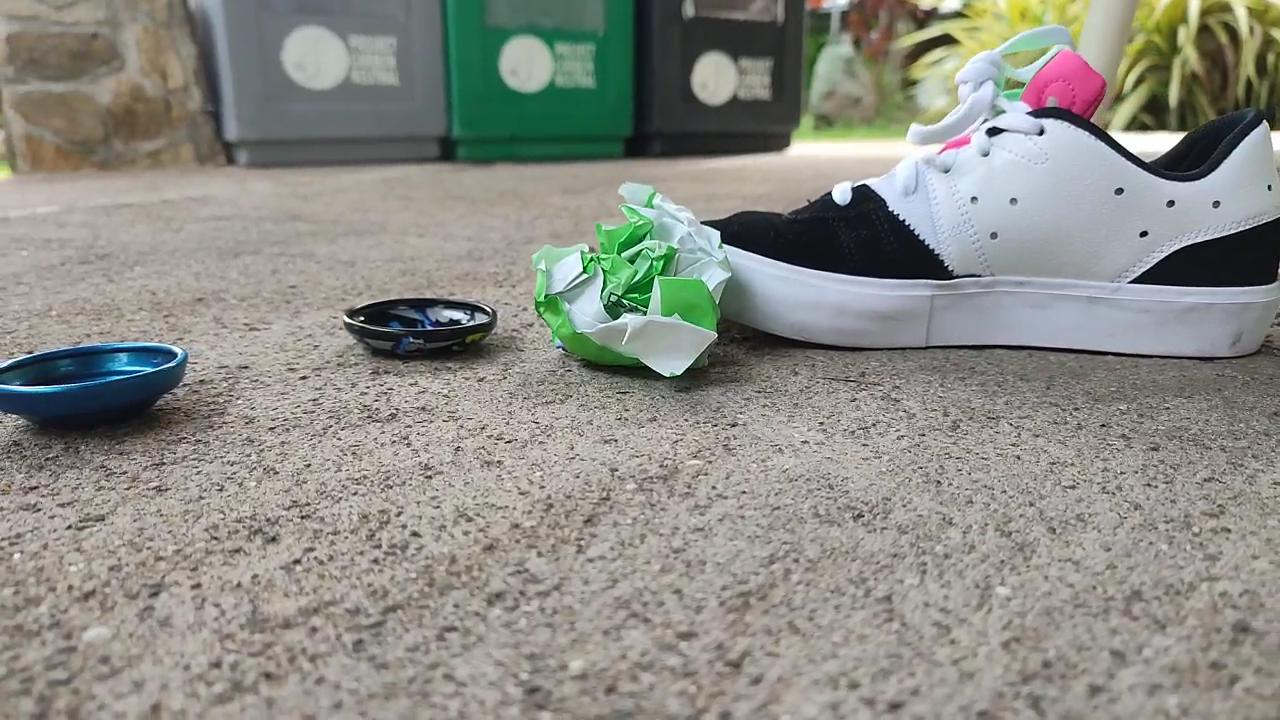Paper: (512, 165, 750, 390)
